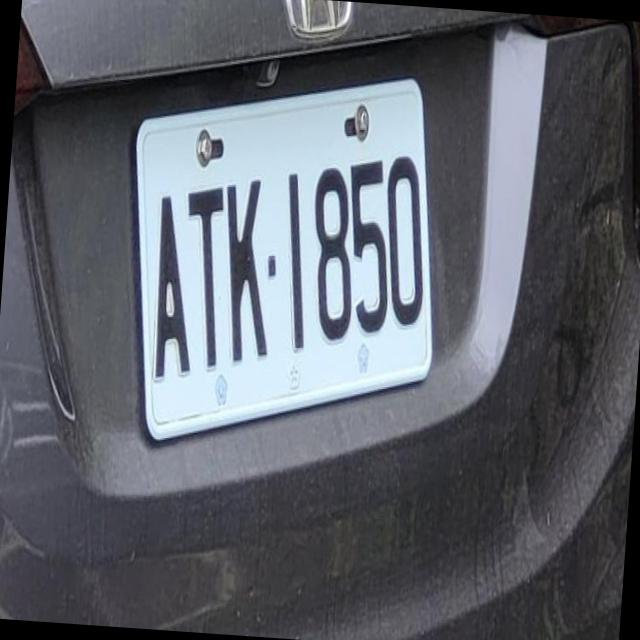LicensePlate: (133, 73, 435, 452)
